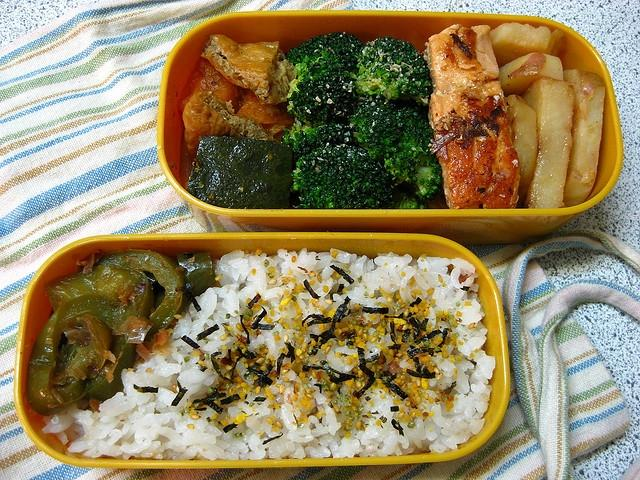broccoli: (347, 96, 442, 203), (291, 142, 395, 209), (351, 37, 432, 106), (286, 68, 358, 126), (278, 118, 362, 158), (284, 32, 363, 65), (294, 50, 358, 82), (384, 181, 426, 209)
